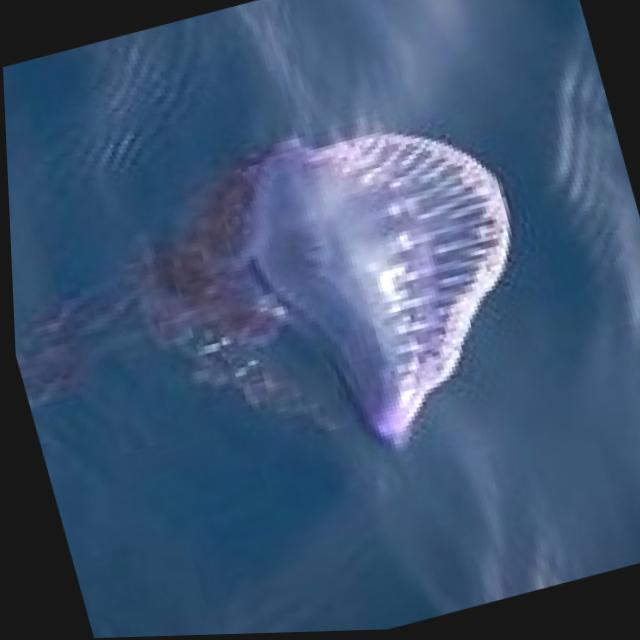Box-jellyfish: (3, 66, 566, 519)
